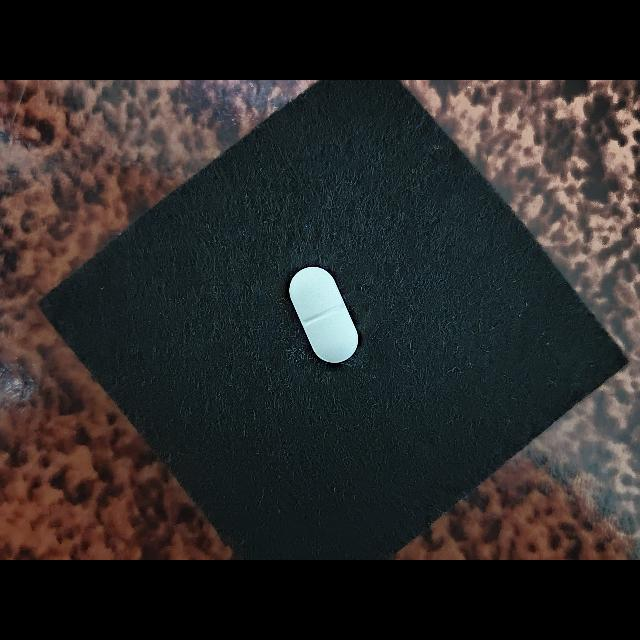Intact Pill: (289, 266, 358, 363)
